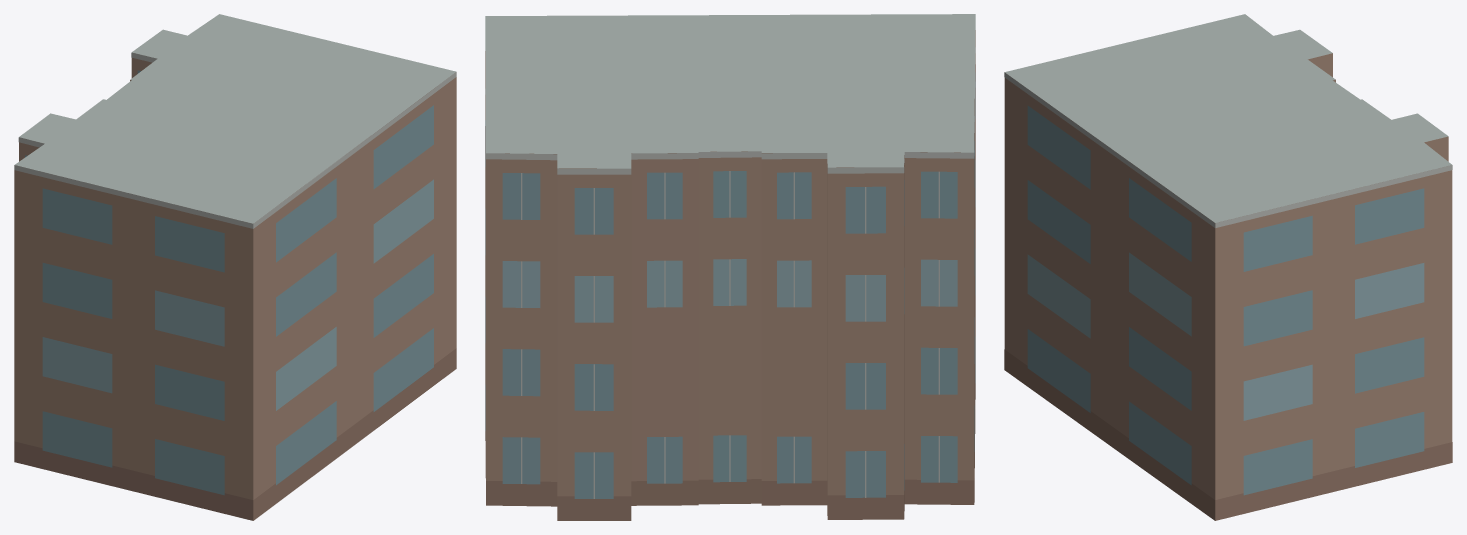
The model's file is survey-upis-32776353.glb.
3 views of the same model, side by side, from view 1: azimuth 30°, elevation 25°; view 2: azimuth 150°, elevation 25°; view 3: azimuth 270°, elevation 25° (orthographic). The views are drawn at different scales.
Parts seen in each view (by area): view 1: survey-upis-32776353.tmp; view 2: survey-upis-32776353.tmp; view 3: survey-upis-32776353.tmp.
Part boxes in pixels (x1,y1,x2,y2): survey-upis-32776353.tmp: [14, 14, 456, 520]; survey-upis-32776353.tmp: [485, 14, 975, 520]; survey-upis-32776353.tmp: [1004, 14, 1452, 520].
Bounding box in the file's own units: 21.08 × 14 × 19.09.
